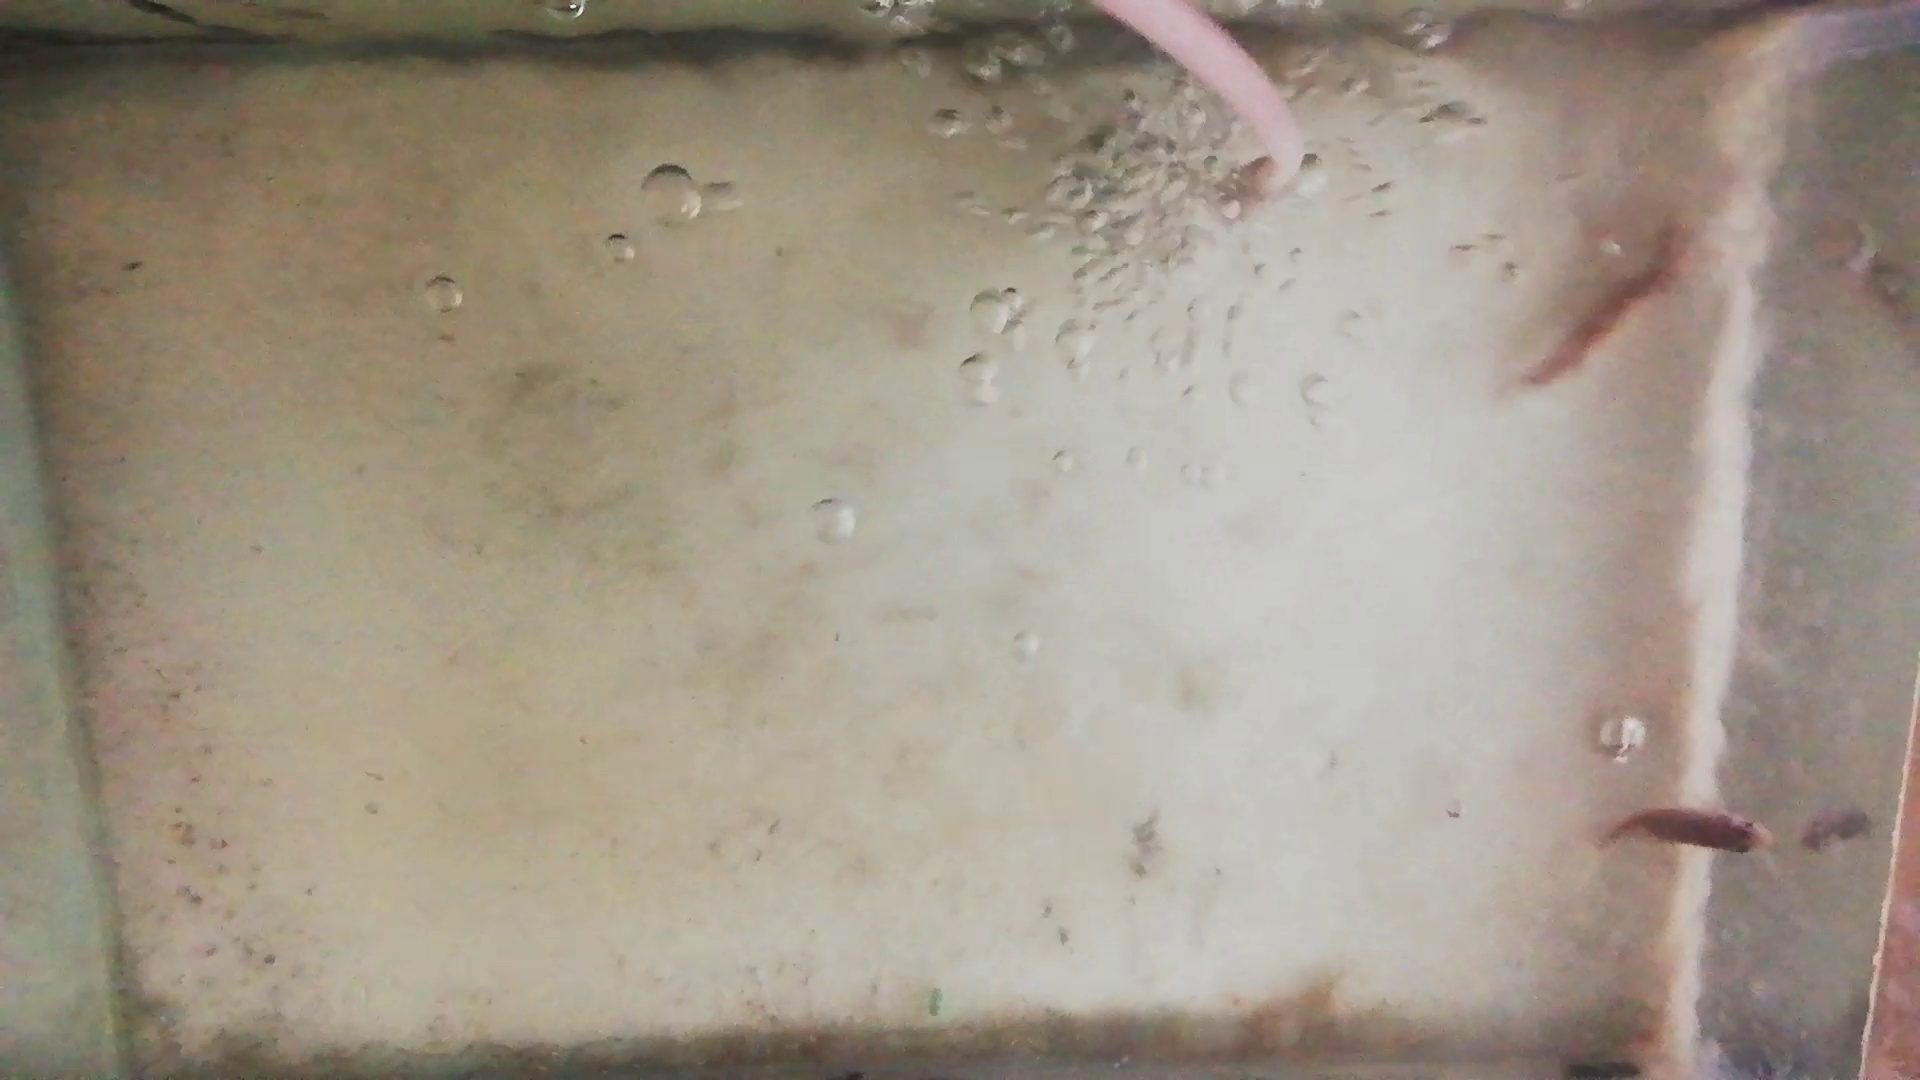fish: (1527, 222, 1691, 393), (1596, 804, 1774, 858)
